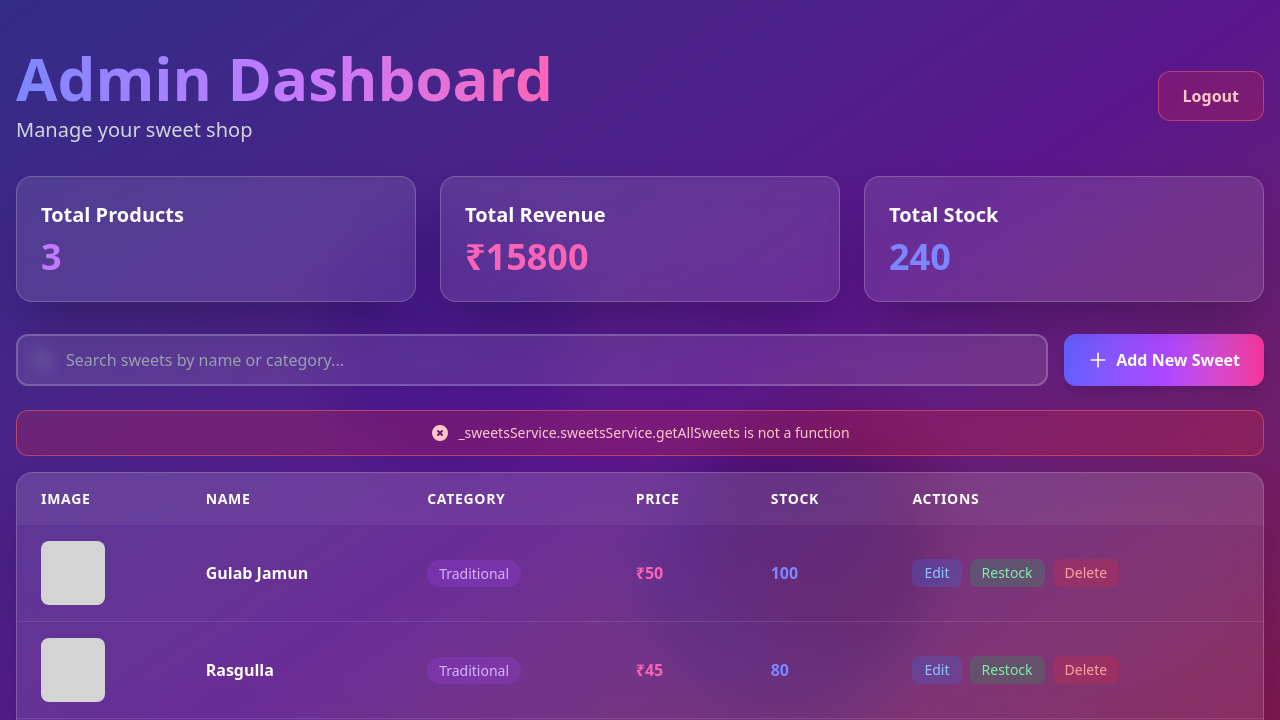
Test: DashboardContent - Add Sweet › opens add sweet modal when Add New Sweet button is clicked
The width and height of the screenshot is (1280, 720).
Click the button "Add New Sweet". click: (1164, 360)
box: [1064,334,1264,386]
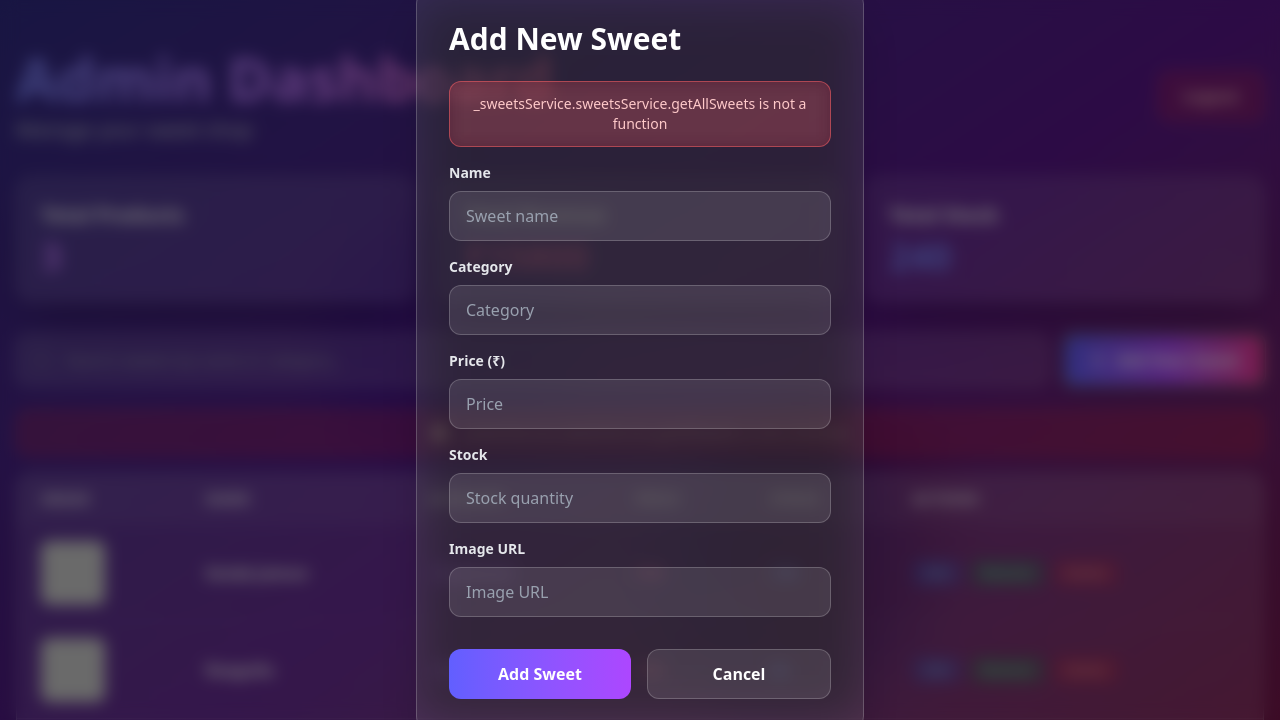
Expected: the field with placeholder "Sweet name" is shown, [449,191,831,241]
Expected: the field with placeholder "Category" is shown, [449,285,831,335]
Expected: the number field with placeholder "Price" is shown, [449,379,831,429]
